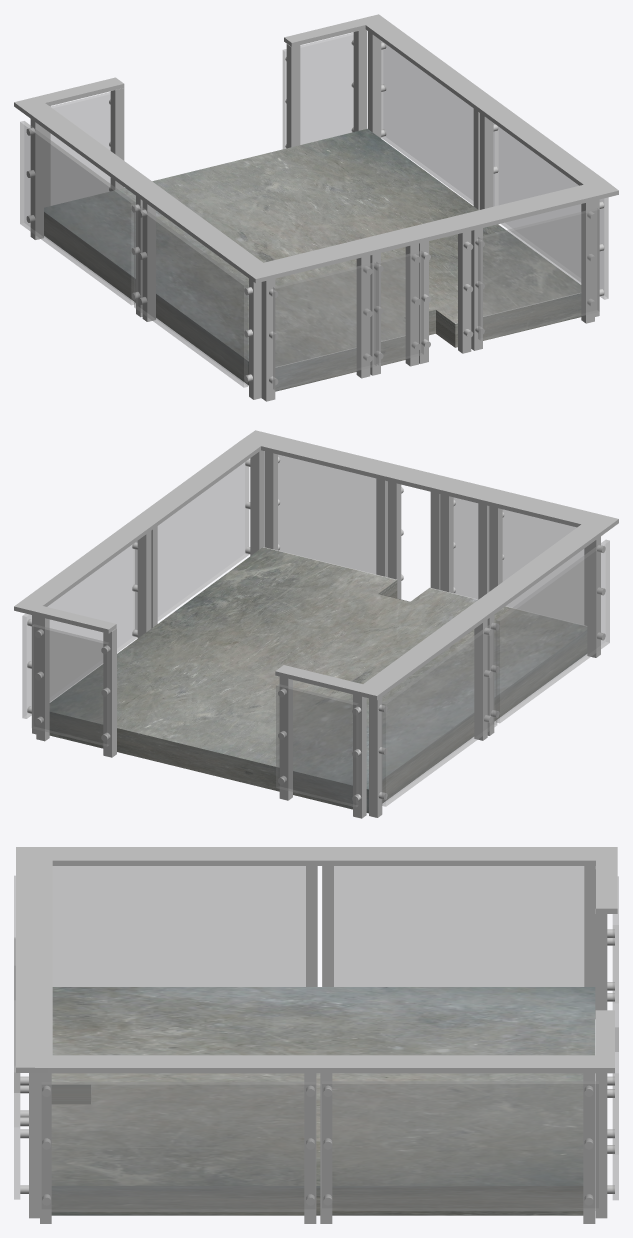
File: lookoout point.fbx
3 renders of one model, top to bottom at view 1: azimuth 30°, elevation 25°; view 2: azimuth 150°, elevation 25°; view 3: azimuth 270°, elevation 25°, orthographic. The views are drawn at different scales.
Visible parts, largest first — view 1: pCube79, pCube46, pCube54, pCube51, pCube52, pCube53, pCube56, pCube55, pCube78, pCube57, pCube77, pCube63 (+19 smaller); view 2: pCube79, pCube46, pCube51, pCube52, pCube54, pCube55, pCube77, pCube56, pCube78, pCube53, pCube57, pCube76 (+18 smaller); view 3: pCube79, pCube56, pCube55, pCube46, pCube52, pCube51, pCube75, pCube72, pCube74, pCube73, pCube70, pCube71 (+7 smaller).
Boxes of the visible parts, x1,y1,x2,y2 form: pCube79: [44, 128, 581, 391]; pCube46: [14, 14, 618, 283]; pCube54: [478, 208, 599, 340]; pCube51: [20, 121, 135, 305]; pCube52: [134, 204, 248, 387]; pCube53: [273, 262, 376, 390]; pCube56: [381, 41, 494, 205]; pCube55: [494, 126, 608, 299]; pCube78: [282, 33, 353, 148]; pCube57: [376, 251, 423, 365]; pCube77: [50, 92, 110, 205]; pCube63: [261, 279, 275, 401]; pCube79: [49, 547, 587, 813]; pCube46: [14, 430, 618, 700]; pCube51: [381, 622, 497, 806]; pCube52: [495, 539, 609, 723]; pCube54: [278, 454, 376, 574]; pCube55: [135, 462, 249, 629]; pCube77: [276, 684, 358, 807]; pCube56: [22, 541, 137, 718]; pCube78: [31, 624, 109, 746]; pCube53: [502, 509, 584, 624]; pCube57: [453, 497, 478, 599]; pCube76: [103, 628, 116, 757]; pCube79: [51, 987, 595, 1215]; pCube56: [322, 1081, 598, 1210]; pCube55: [41, 1082, 315, 1211]; pCube46: [16, 847, 617, 1073]; pCube52: [52, 866, 305, 986]; pCube51: [322, 866, 584, 986]; pCube75: [595, 1073, 607, 1218]; pCube72: [304, 1073, 316, 1223]; pCube74: [583, 1073, 595, 1223]; pCube73: [320, 1073, 332, 1223]; pCube70: [29, 1073, 39, 1218]; pCube71: [40, 1073, 51, 1223].
Size of the model in its own units: 553 by 188 by 638.
